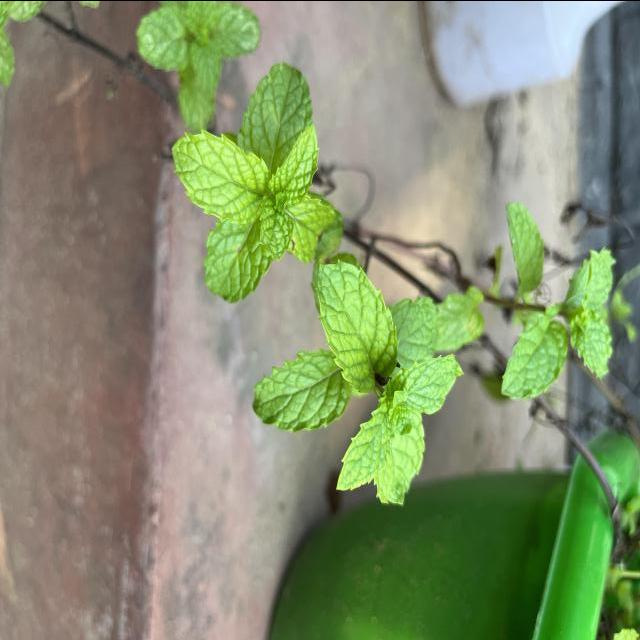Mentha spicata: (314, 257, 400, 394), (169, 124, 272, 227), (251, 348, 352, 431), (334, 401, 394, 490), (270, 122, 321, 208)
